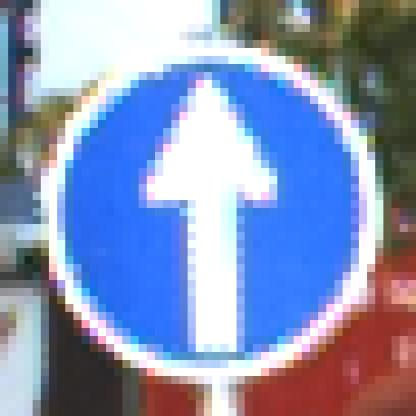AheadOnly: (42, 41, 376, 377)
